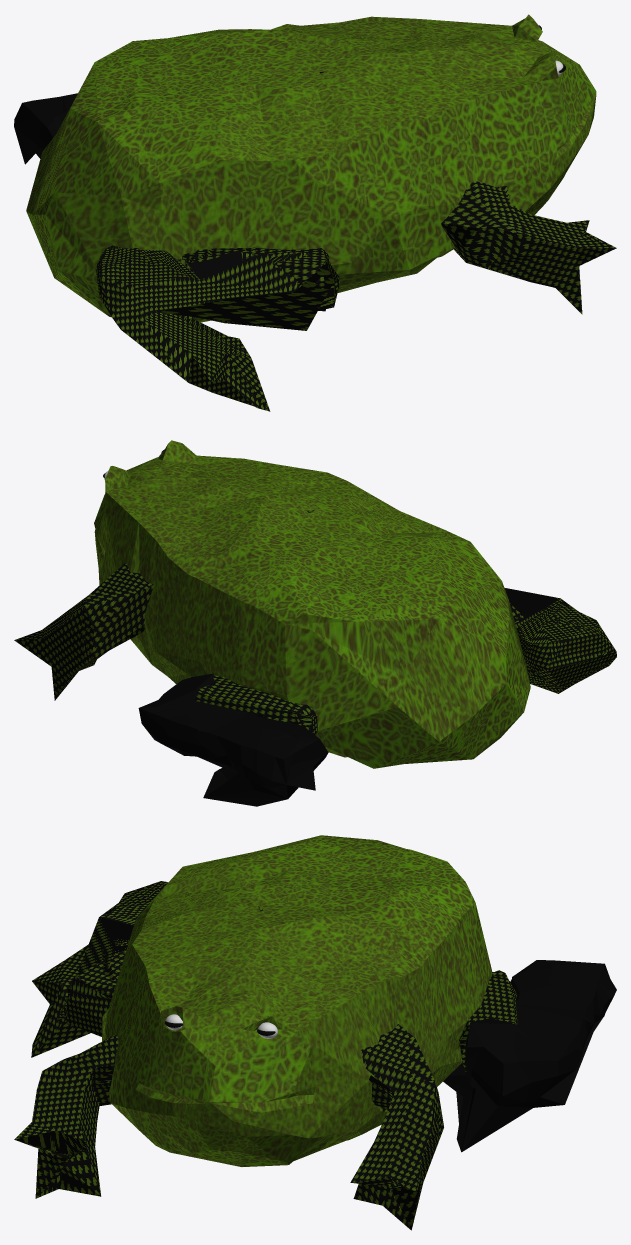
The model's file is toad.glb.
The picture shows the model from 3 angles, top to bottom: view 1: azimuth 30°, elevation 25°; view 2: azimuth 150°, elevation 25°; view 3: azimuth 270°, elevation 25°; orthographic projection. The views are drawn at different scales.
Parts seen in each view (by area): view 1: Cube.019; view 2: Cube.019; view 3: Cube.019.
Boxes of the visible parts, x1,y1,x2,y2 form: Cube.019: [14, 14, 616, 411]; Cube.019: [14, 440, 616, 806]; Cube.019: [14, 835, 616, 1230].
Size of the model in its own units: 44.66 by 19.69 by 42.58.
Materials: 7 (7 with a texture image).
